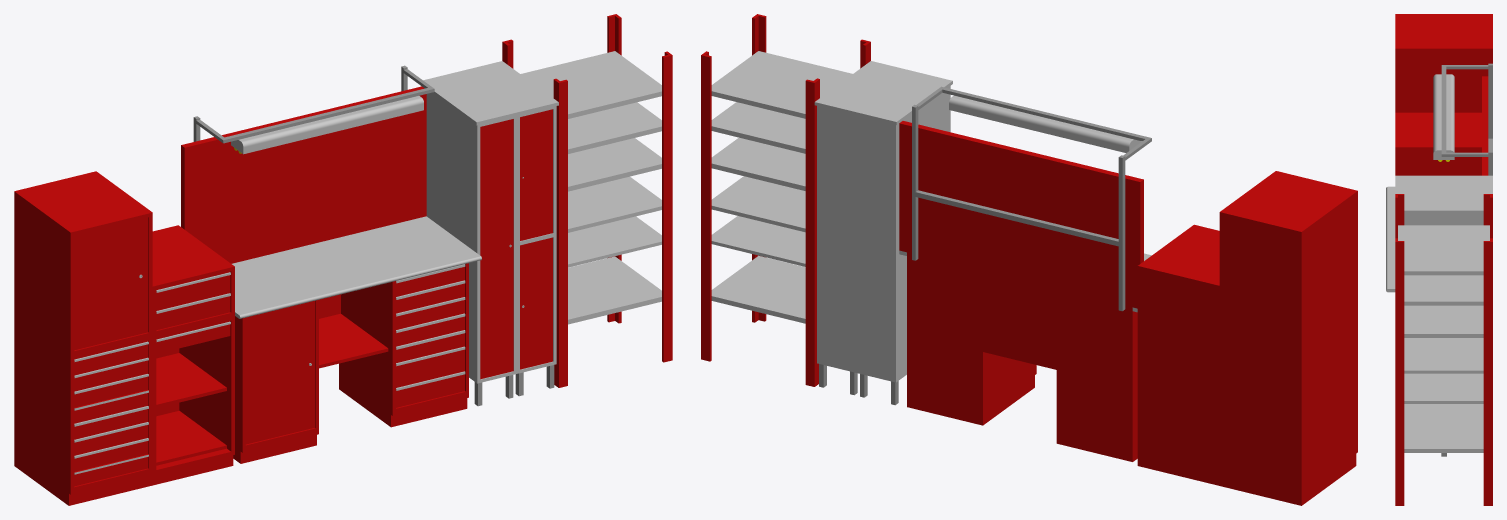
Rendered from workbench.fbx.
3 views of the same model, side by side, from view 1: azimuth 30°, elevation 25°; view 2: azimuth 150°, elevation 25°; view 3: azimuth 270°, elevation 25° (orthographic). The views are drawn at different scales.
Visible parts, largest first — view 1: Mesh1_Color_A07_0, Mesh1_Color_M04_0, Mesh1_Color_M06_0; view 2: Mesh1_Color_A07_0, Mesh1_Color_M04_0, Mesh1_Color_M06_0; view 3: Mesh1_Color_M04_0, Mesh1_Color_A07_0, Mesh1_Color_M06_0.
Part boxes in pixels (x1=…): Mesh1_Color_A07_0: x1=14, y1=14, x2=672, y2=505; Mesh1_Color_M04_0: x1=74, y1=51, x2=661, y2=474; Mesh1_Color_M06_0: x1=193, y1=65, x2=554, y2=406; Mesh1_Color_A07_0: x1=701, y1=14, x2=1357, y2=505; Mesh1_Color_M04_0: x1=711, y1=51, x2=1151, y2=382; Mesh1_Color_M06_0: x1=819, y1=86, x2=1151, y2=405; Mesh1_Color_M04_0: x1=1386, y1=74, x2=1492, y2=452; Mesh1_Color_A07_0: x1=1395, y1=14, x2=1492, y2=505; Mesh1_Color_M06_0: x1=1441, y1=63, x2=1492, y2=456.
Bounding box in the file's own units: 689 × 333 × 122.
